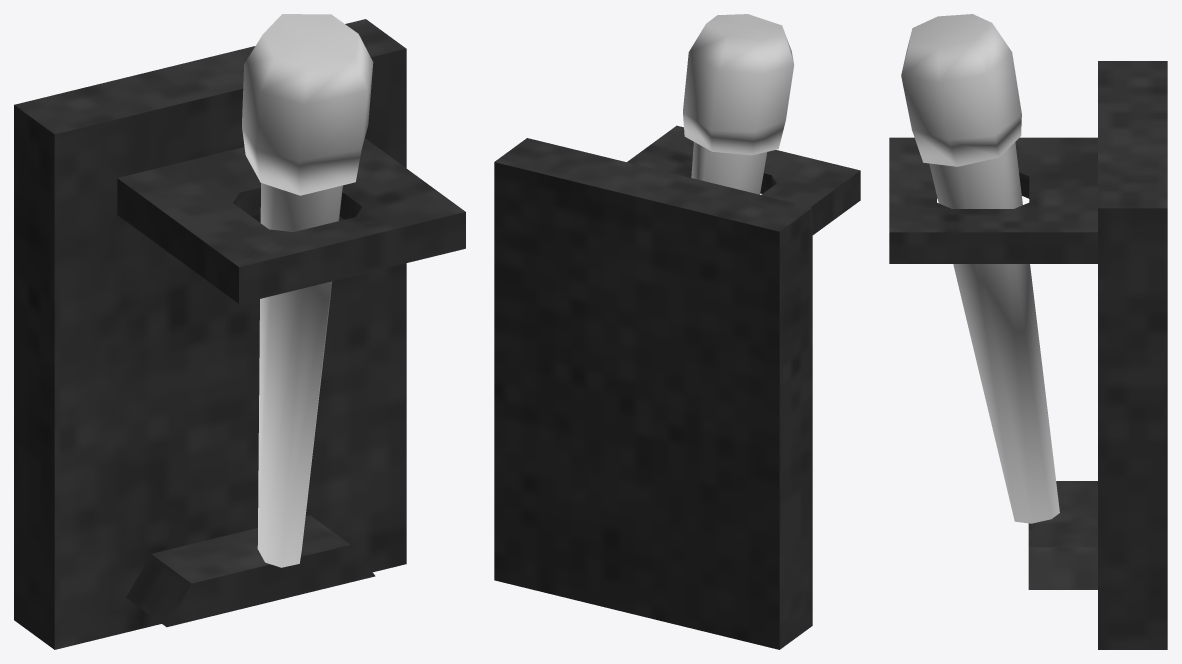
File: MS_TorchHolder.fbx
3 renders of one model, left to right at view 1: azimuth 30°, elevation 25°; view 2: azimuth 150°, elevation 25°; view 3: azimuth 270°, elevation 25°, orthographic. The views are drawn at different scales.
Parts seen in each view (by area): view 1: BLE_Torch; view 2: BLE_Torch; view 3: BLE_Torch.
Boxes of the visible parts, x1,y1,x2,y2 form: BLE_Torch: (14,14,465,649); BLE_Torch: (494,14,860,649); BLE_Torch: (889,14,1167,649).
Bounding box in the file's own units: 30 × 52.22 × 24.
